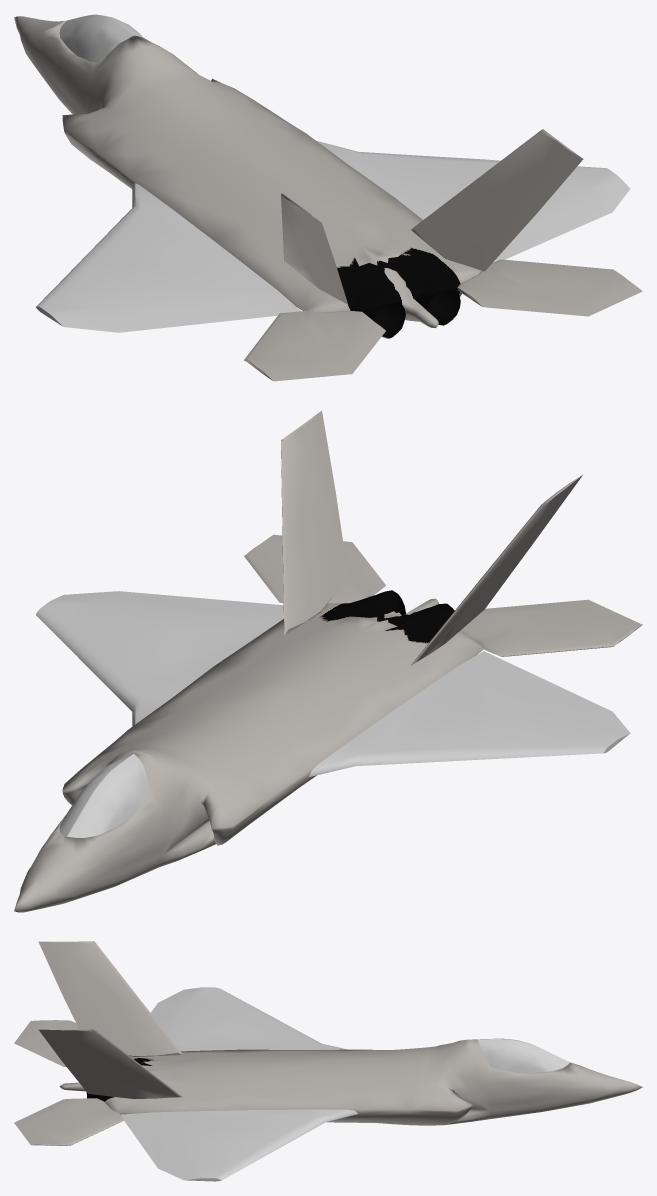
Rendered from F-35B_Medium_Quality.obj.
3 renders of one model, top to bottom at view 1: azimuth 30°, elevation 25°; view 2: azimuth 150°, elevation 25°; view 3: azimuth 270°, elevation 25°, orthographic. The views are drawn at different scales.
Visible parts, largest first — view 1: Body_Cube.003, Wing_(L)_Cube.001, Tail_Cube.004, Cockpit_Cube; view 2: Body_Cube.003, Wing_(L)_Cube.001, Tail_Cube.004, Cockpit_Cube; view 3: Body_Cube.003, Tail_Cube.004, Wing_(L)_Cube.001, Cockpit_Cube.
Boxes of the visible parts, left/top/right/bottom form: Body_Cube.003: left=14, top=16, right=481, bottom=338; Wing_(L)_Cube.001: left=36, top=141, right=630, bottom=332; Tail_Cube.004: left=244, top=129, right=642, bottom=381; Cockpit_Cube: left=59, top=14, right=142, bottom=62; Body_Cube.003: left=14, top=590, right=483, bottom=912; Wing_(L)_Cube.001: left=36, top=591, right=630, bottom=776; Tail_Cube.004: left=244, top=411, right=642, bottom=665; Cockpit_Cube: left=59, top=753, right=149, bottom=837; Body_Cube.003: left=59, top=1039, right=642, bottom=1125; Tail_Cube.004: left=14, top=941, right=182, bottom=1145; Wing_(L)_Cube.001: left=121, top=987, right=357, bottom=1181; Cockpit_Cube: left=477, top=1038, right=569, bottom=1073.
Size of the model in its own units: 15.3 by 4.76 by 21.3.
